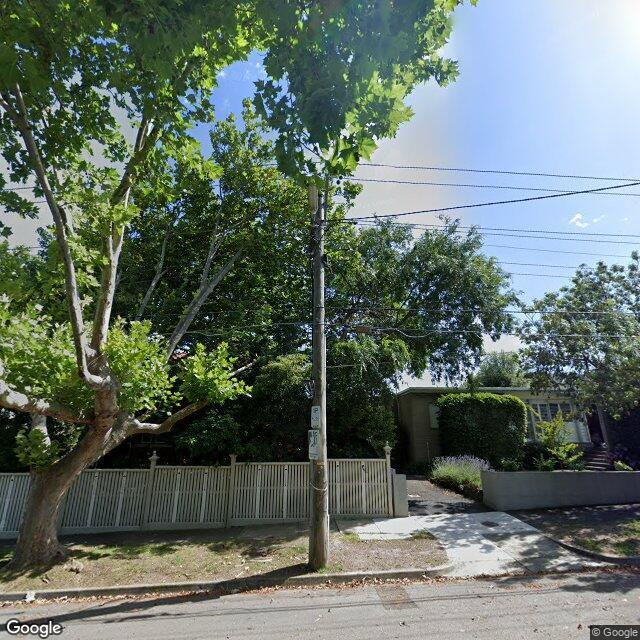streetlight: (309, 183, 319, 232)
timber-pole: (308, 188, 328, 569)
